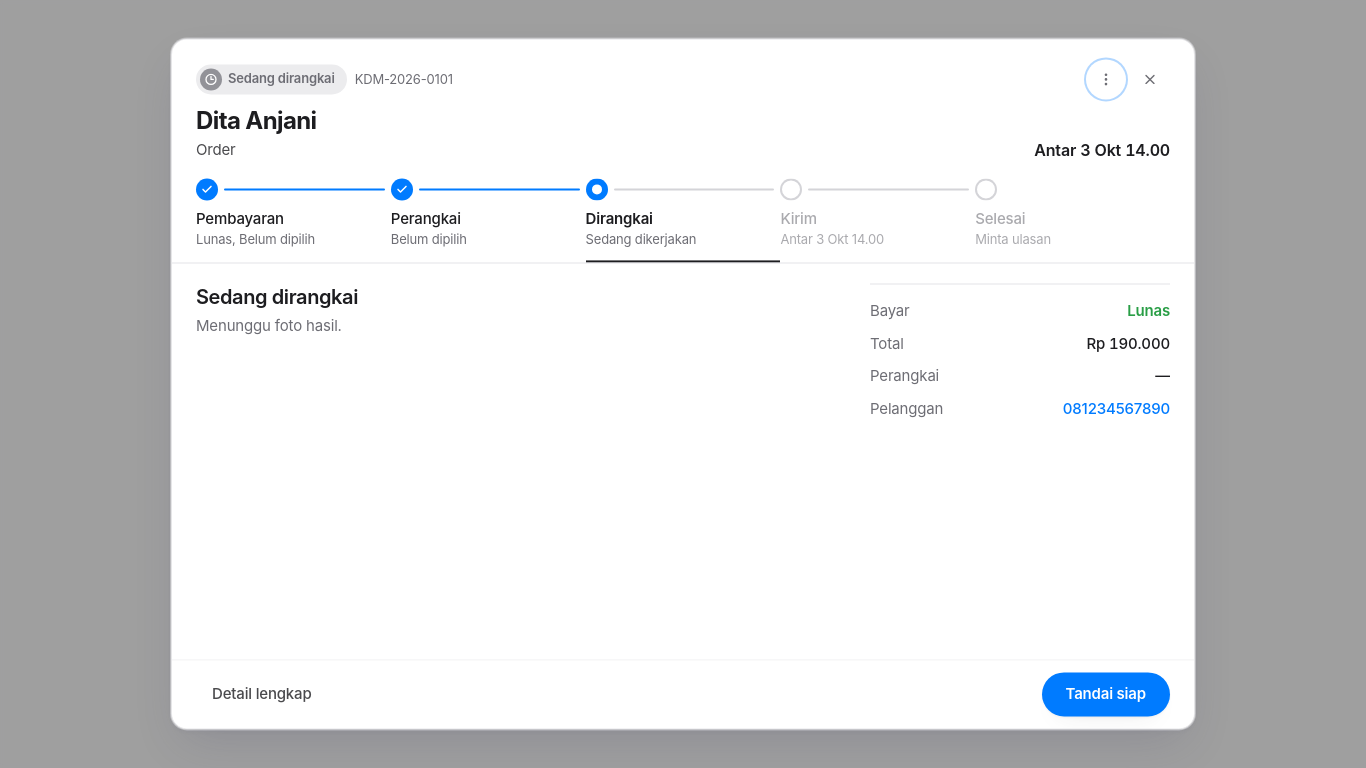
Scenario: order process view (Owner/Admin) › full details and back
The width and height of the screenshot is (1366, 768).
Click the button "Detail lengkap" at (262, 695), box left=196, top=673, right=328, bottom=717
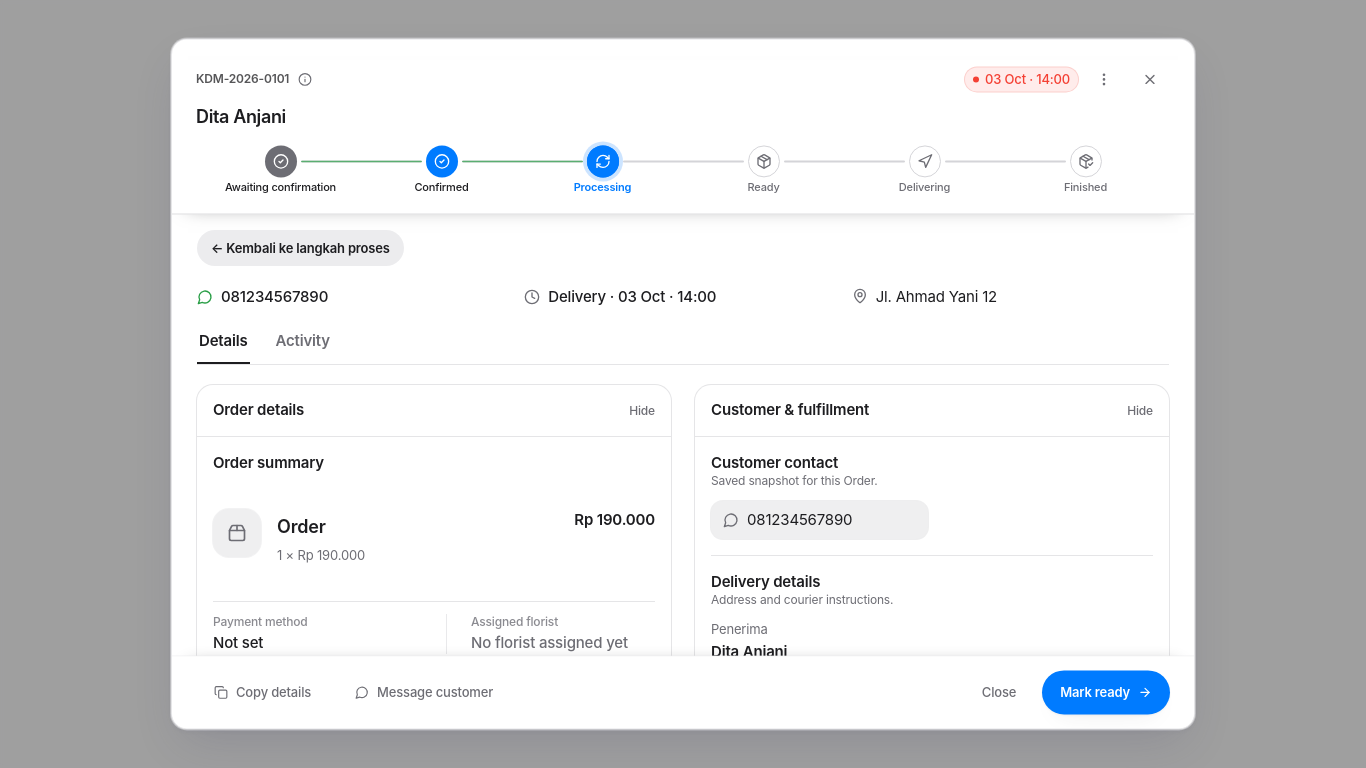
Expected: the element named "Customer and fulfillment" is shown, left=197, top=287, right=997, bottom=306
Click the button "← Kembali ke langkah proses" at (300, 248), box left=197, top=230, right=404, bottom=266
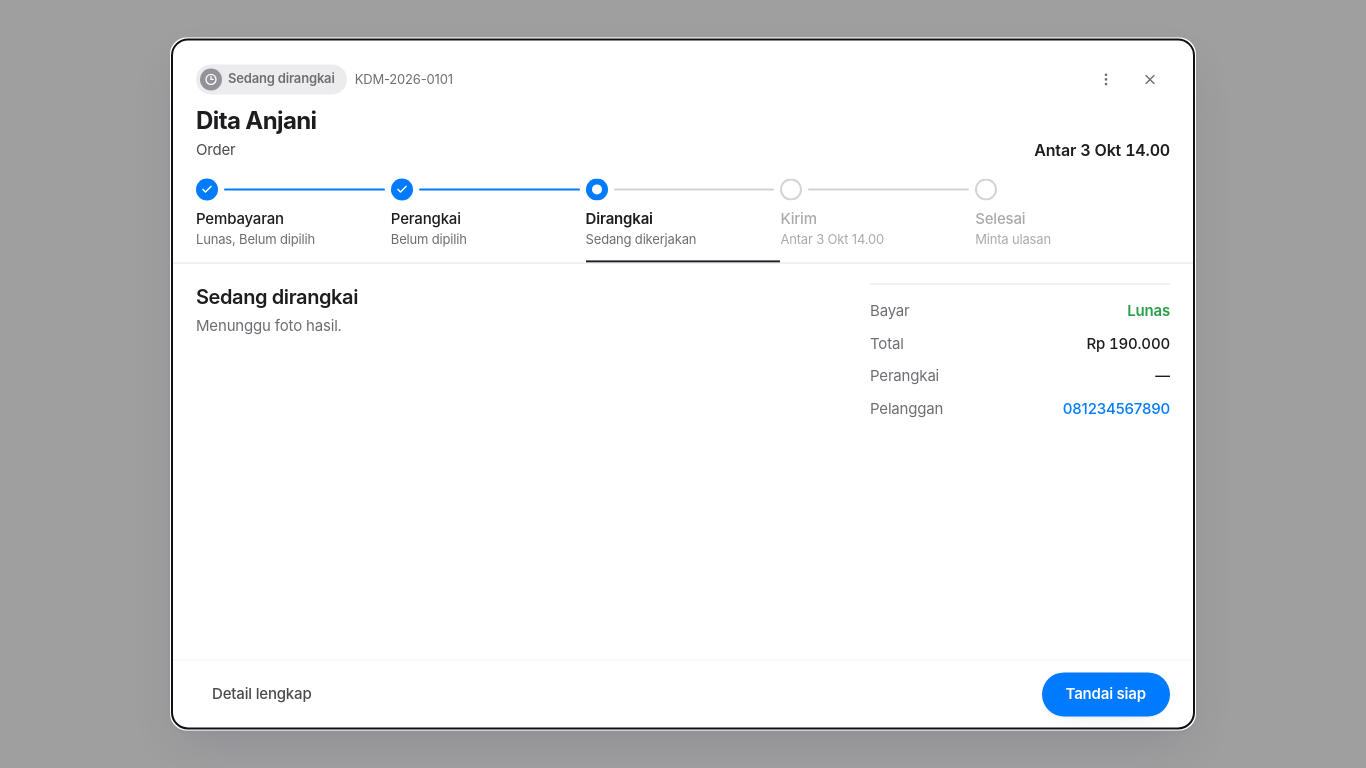
Expected: the list named "Langkah 3 dari 5" is shown, left=196, top=178, right=1170, bottom=263
